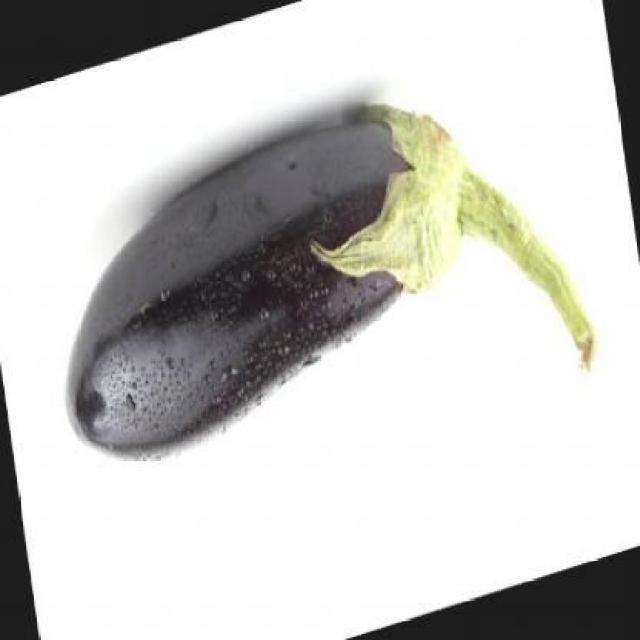eggplant: (51, 86, 606, 480)
